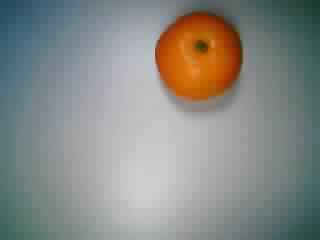orange: (147, 7, 242, 109)
